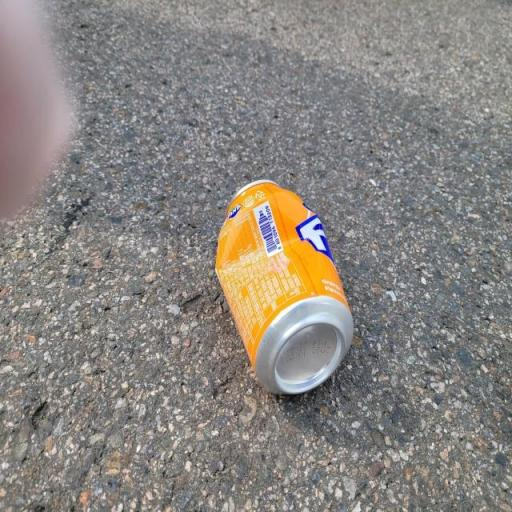metal: (189, 161, 365, 413)
